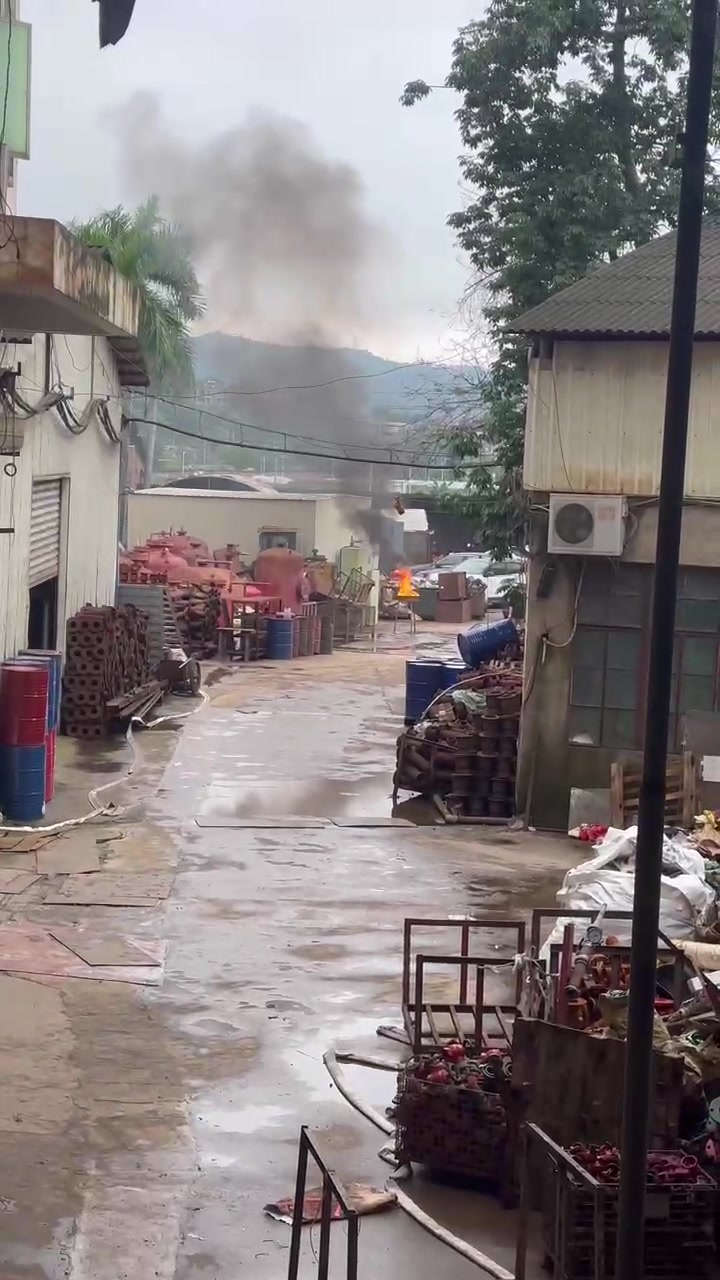fire: (392, 569, 419, 596)
